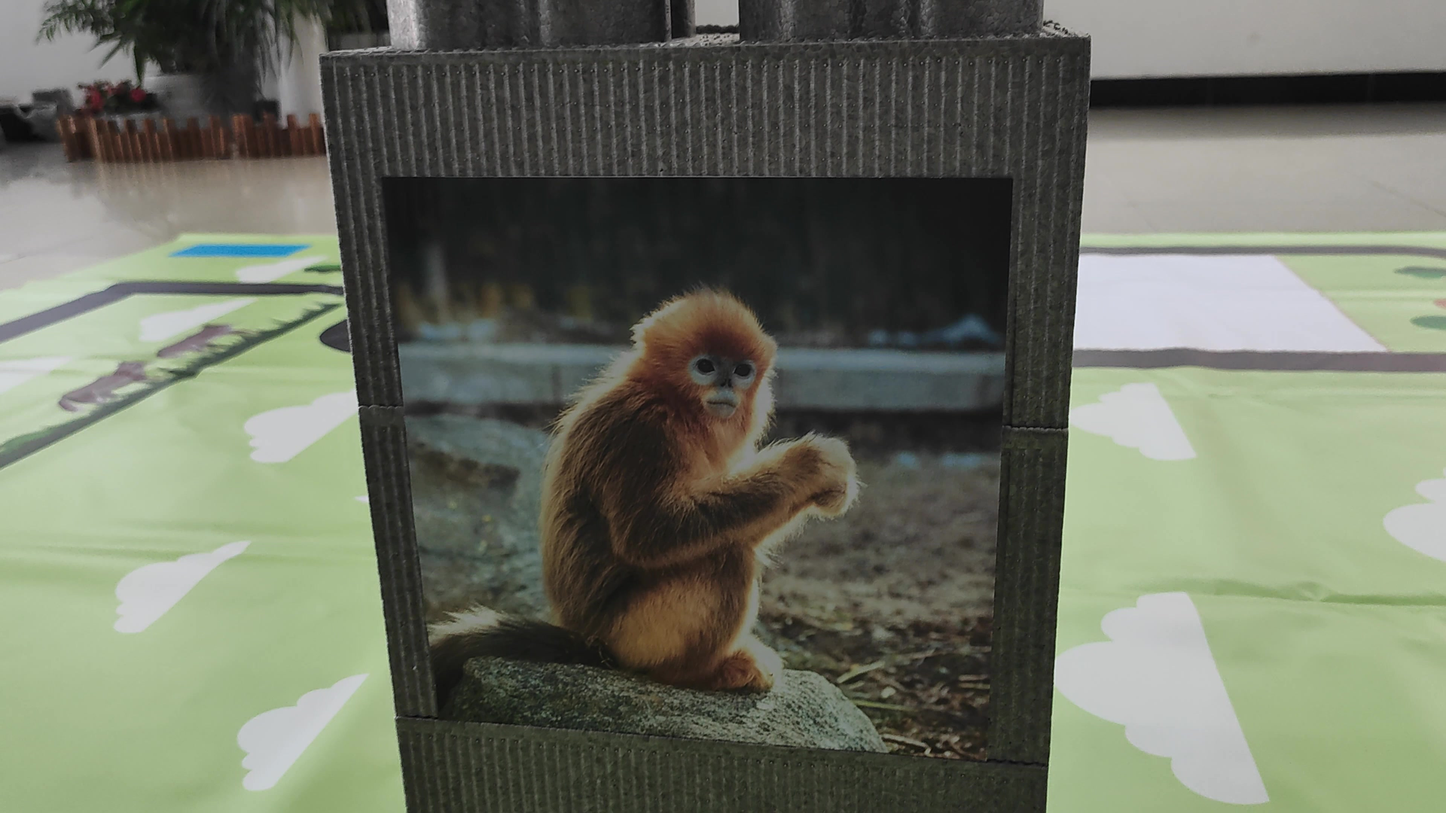monkey: (433, 229, 871, 722)
